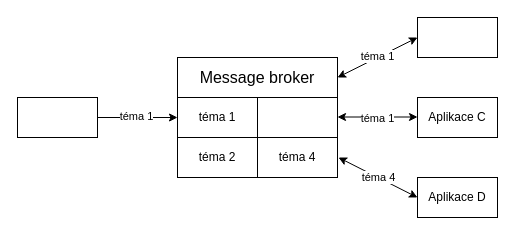
This 515x235 diagram has some shape labels left out. Here are the shapes that lost their labels. From the top down, the centre of each, then its label:
At point 457,37: "Aplikace B".
At point 57,117: "Aplikace A".
At point 297,117: "téma 3".
